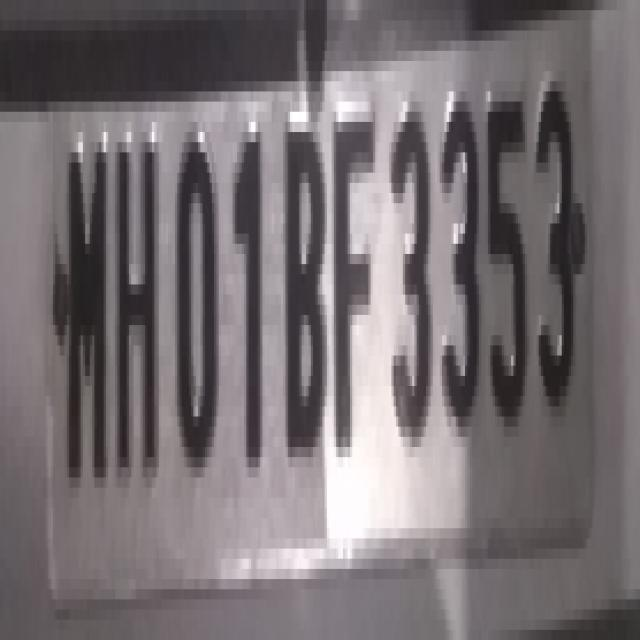0: (173, 102, 225, 487)
1: (229, 88, 270, 496)
3: (386, 91, 439, 484), (437, 51, 486, 474), (527, 48, 577, 414)
5: (480, 85, 534, 437)
B: (281, 91, 331, 471)
F: (330, 71, 380, 453)
H: (111, 91, 165, 496)
M: (58, 114, 113, 518)
